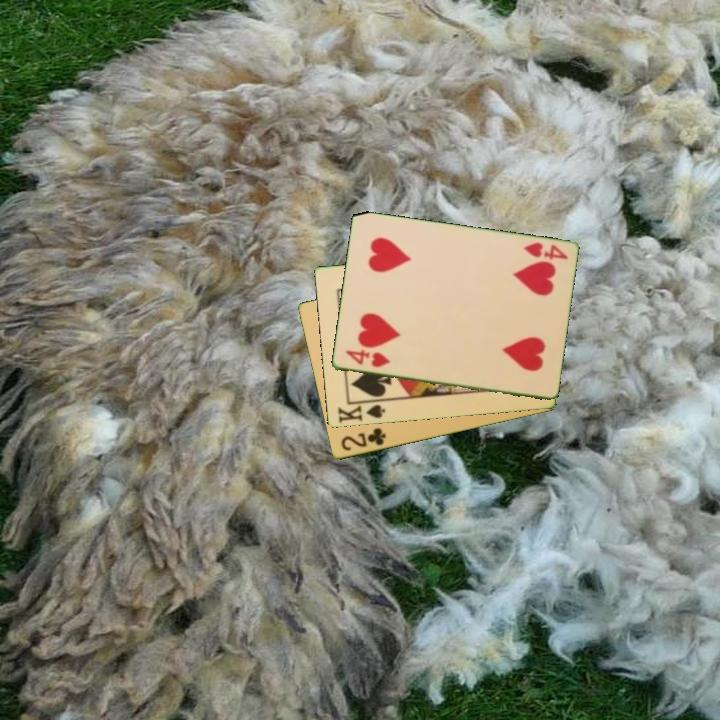2c: (337, 425, 388, 454)
4h: (520, 239, 570, 263), (342, 347, 393, 370)
Ks: (334, 397, 388, 426)
